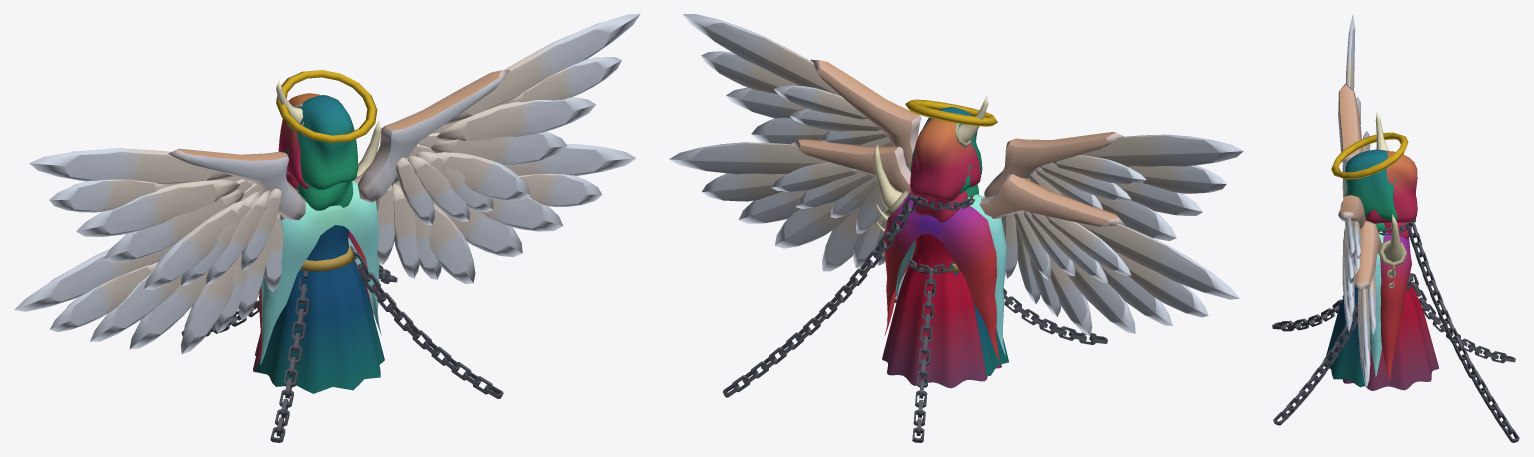
The model's file is ANGE__DEMON.fbx.
3 renders of one model, left to right at view 1: azimuth 30°, elevation 25°; view 2: azimuth 150°, elevation 25°; view 3: azimuth 270°, elevation 25°, orthographic. The views are drawn at different scales.
Visible parts, largest first — view 1: ANGE, CHAINE MOYEN.003, Cylinder.002; view 2: ANGE, Cylinder.002, CHAINE MOYEN.003; view 3: ANGE, Cylinder.002, CHAINE MOYEN.003.
Part boxes in pixels (x1,y1,x2,y2): ANGE: (14, 14, 640, 393); CHAINE MOYEN.003: (181, 173, 503, 442); Cylinder.002: (253, 80, 381, 384); ANGE: (669, 14, 1243, 375); Cylinder.002: (873, 95, 1001, 388); CHAINE MOYEN.003: (723, 191, 1107, 442); ANGE: (1324, 14, 1408, 388); Cylinder.002: (1342, 112, 1438, 390); CHAINE MOYEN.003: (1272, 218, 1519, 442).
Size of the model in its own units: 872 by 422 by 374.
